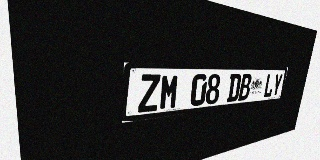0: (190, 74, 208, 107)
8: (205, 74, 222, 105)
B: (238, 74, 252, 101)
D: (226, 74, 242, 102)
L: (263, 74, 275, 98)
M: (159, 74, 180, 110)
Y: (271, 74, 283, 97)
Z: (138, 74, 161, 113)
